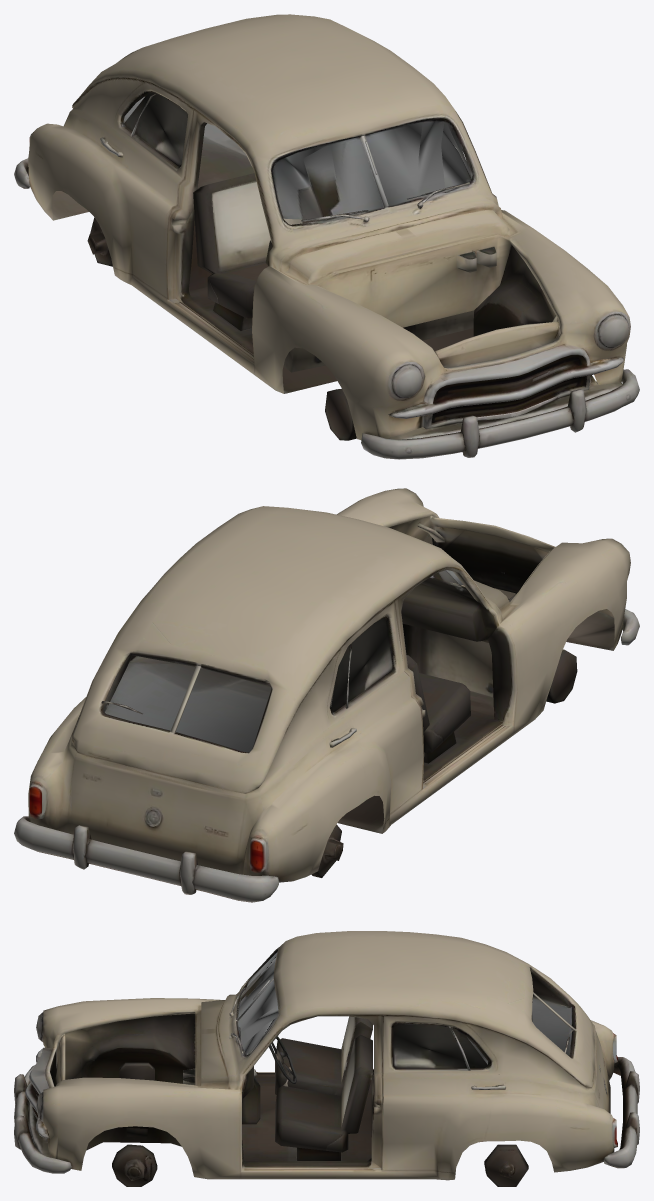
Rendered from optimized_glb.glb.
3 views of the same model, one above another, from view 1: azimuth 30°, elevation 25°; view 2: azimuth 150°, elevation 25°; view 3: azimuth 270°, elevation 25° (orthographic). The views are drawn at different scales.
Visible parts, largest first — view 1: body shell; view 2: body shell; view 3: body shell.
Part boxes in pixels (x1,y1,x2,y2): body shell: (14, 14, 639, 459); body shell: (14, 488, 639, 902); body shell: (14, 931, 639, 1186).
Bounding box in the file's own units: 0.4082 × 0.3262 × 0.998.
Materials: 1 (1 with a texture image).
